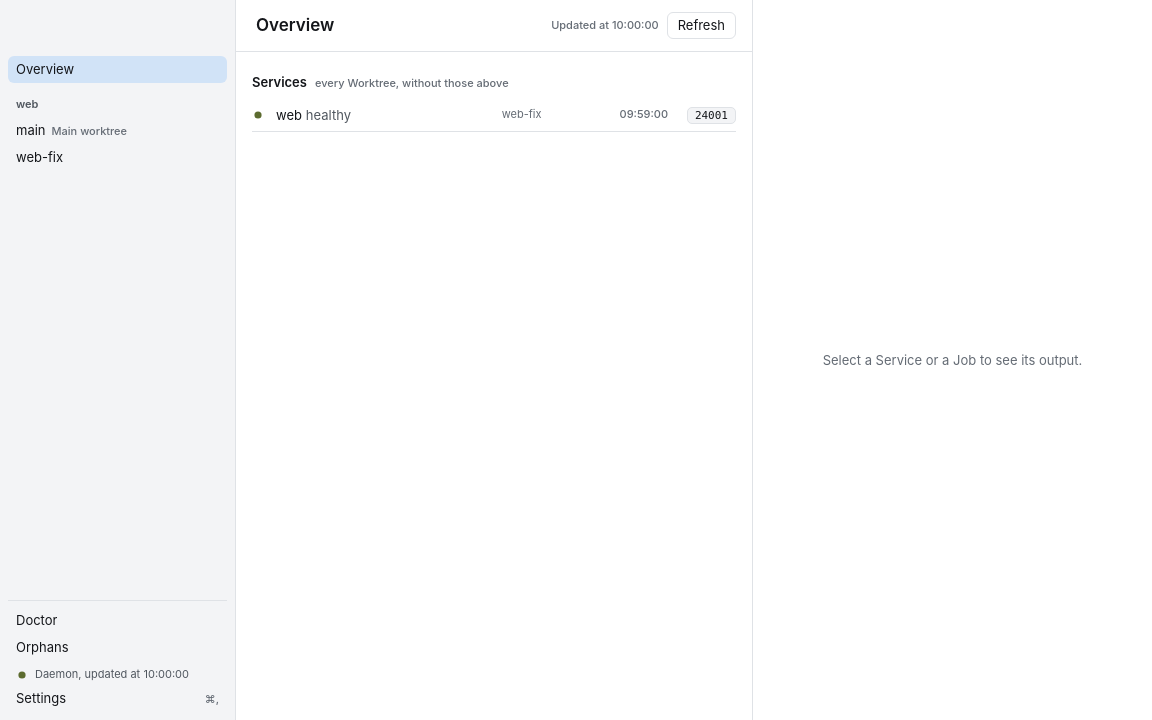
Test: the Worktree release sheet › does not say nothing runs when the release only lets go of a Compose service
Click the button "web-fix".
click(118, 157)  # box [8, 144, 227, 170]
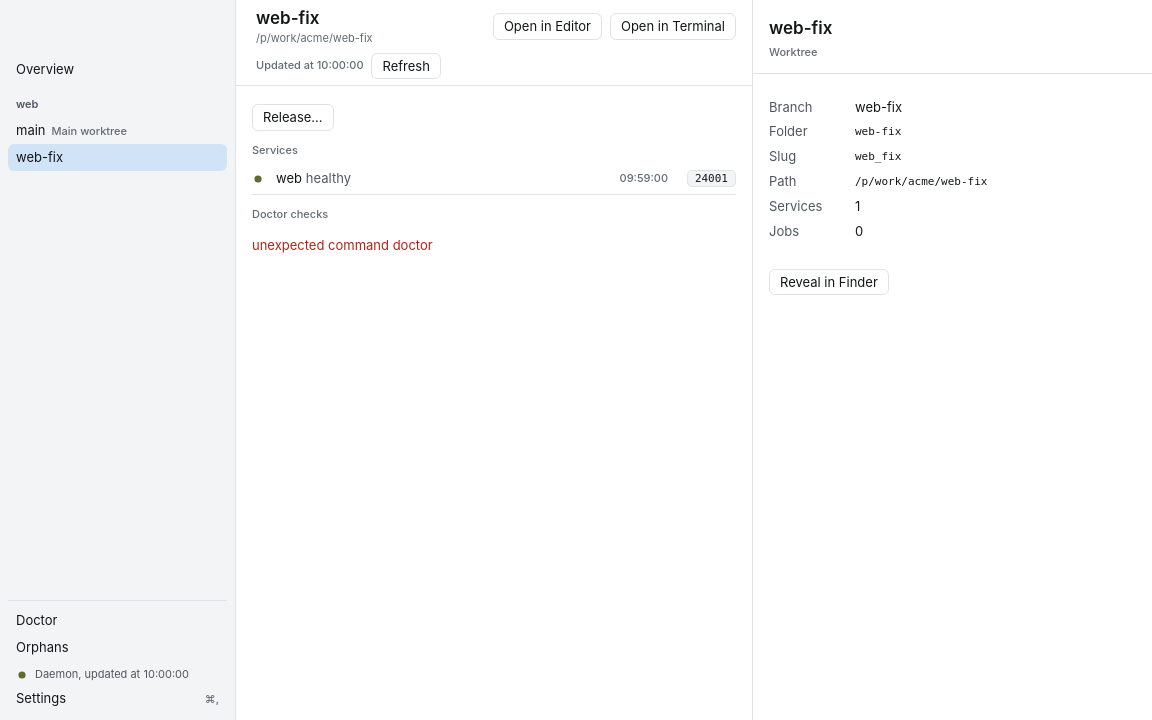
Click the button "Release…".
click(293, 118)  # box [252, 104, 334, 131]
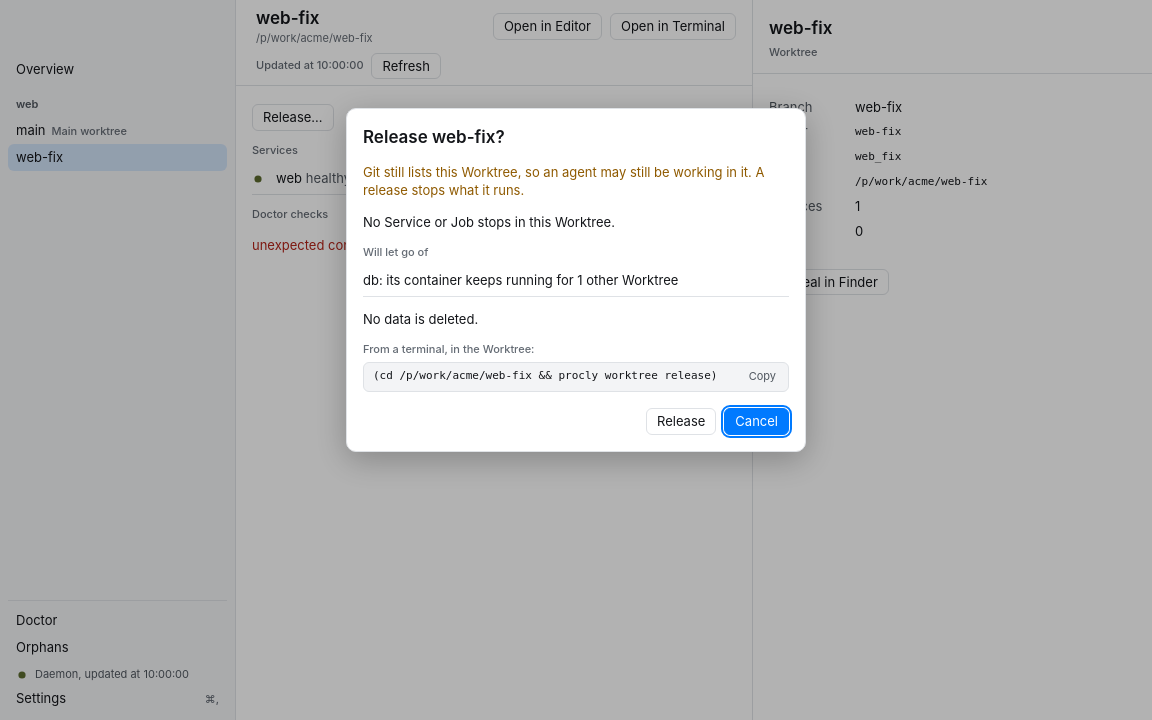
Expected: the heading "Will let go of" is shown, [363, 245, 428, 259]
Expected: the text "No Service or Job stops in this Worktree." is shown, [363, 214, 615, 230]
Expected: the text "db: its container keeps running for 1 other Worktree" is shown, [363, 272, 678, 288]
